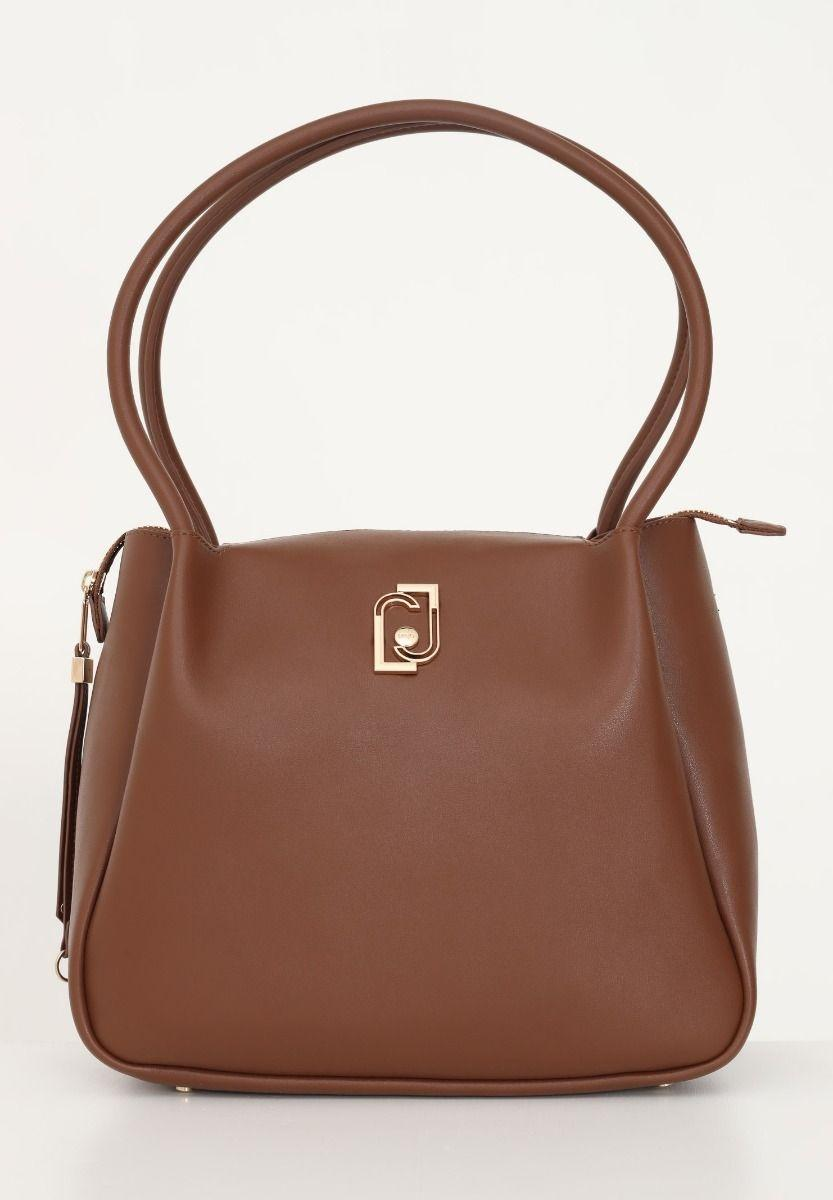LIU-JO: (373, 582, 440, 674)
